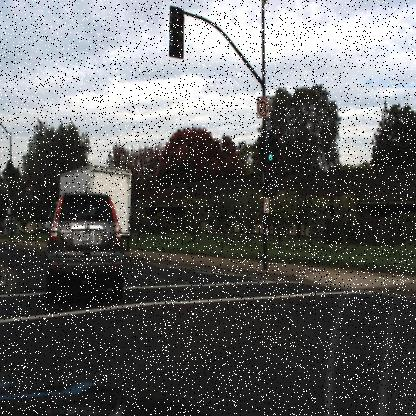car: (44, 191, 123, 300)
trafficLight-Green: (266, 129, 275, 169), (269, 139, 274, 162)
trafficLight-Red: (170, 9, 184, 55)
truck: (56, 160, 132, 254)
